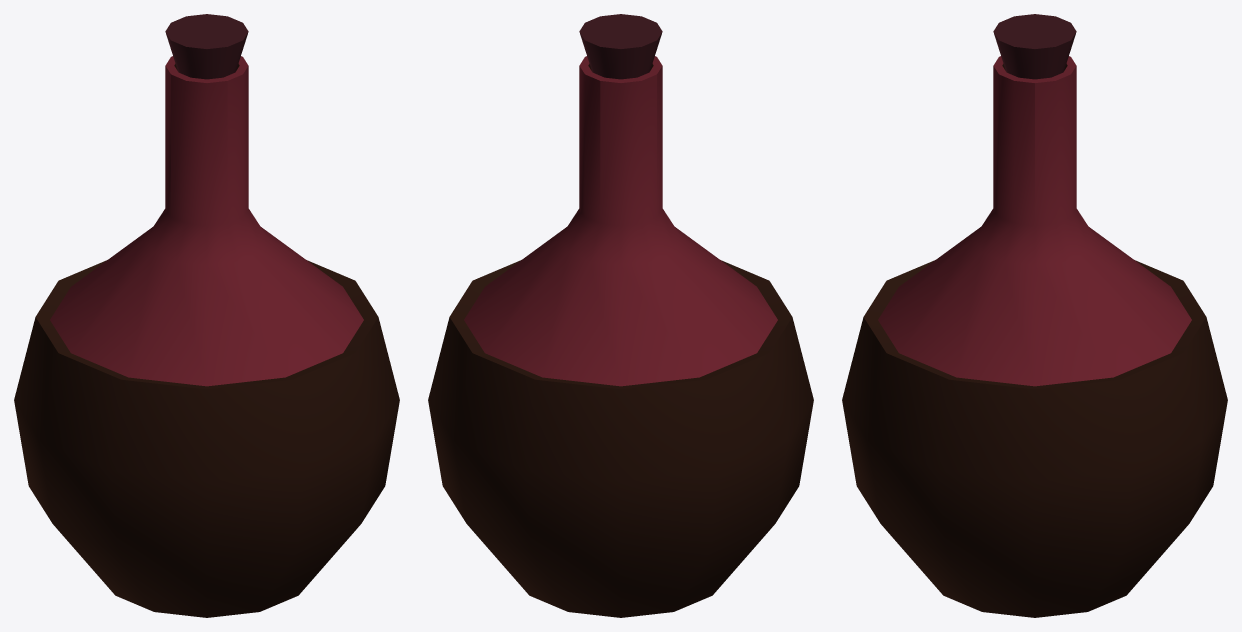
The model's file is Bottle 2 .fbx.
3 renders of one model, left to right at view 1: azimuth 30°, elevation 25°; view 2: azimuth 150°, elevation 25°; view 3: azimuth 270°, elevation 25°, orthographic.
Visible parts, largest first — view 1: Bottle 1.001; view 2: Bottle 1.001; view 3: Bottle 1.001.
Part boxes in pixels (x1,y1,x2,y2): Bottle 1.001: [14, 14, 399, 617]; Bottle 1.001: [428, 14, 813, 617]; Bottle 1.001: [842, 14, 1227, 617].
Bounding box in the file's own units: 32.38 × 50.15 × 32.38.
